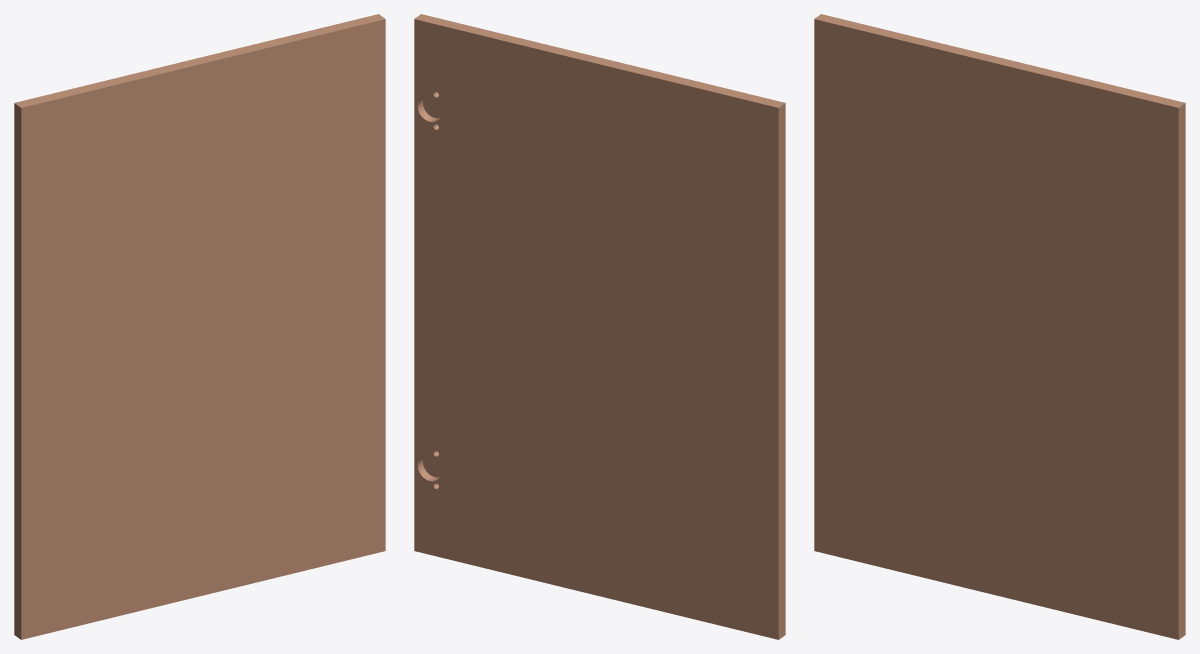
Rendered from B4_dor_hoyre.glb.
The picture shows the model from 3 angles, left to right: view 1: azimuth 30°, elevation 25°; view 2: azimuth 150°, elevation 25°; view 3: azimuth 330°, elevation 25°; orthographic projection.
Bounding box in the file's own units: 530 × 738 × 17.4.
